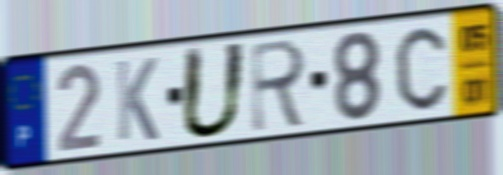2: (55, 61, 103, 156)
8: (331, 28, 383, 124)
C: (392, 24, 449, 114)
K: (113, 55, 161, 145)
R: (249, 35, 309, 136)
U: (177, 39, 250, 143)
